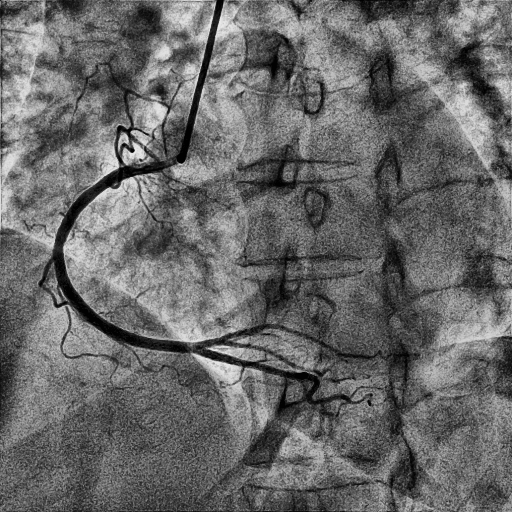pborca: (199, 324, 373, 360)
pda: (196, 348, 373, 406)
rca: (53, 156, 202, 353)
